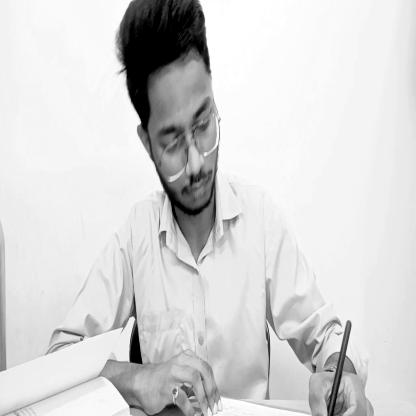Distracted: (115, 0, 224, 226)
